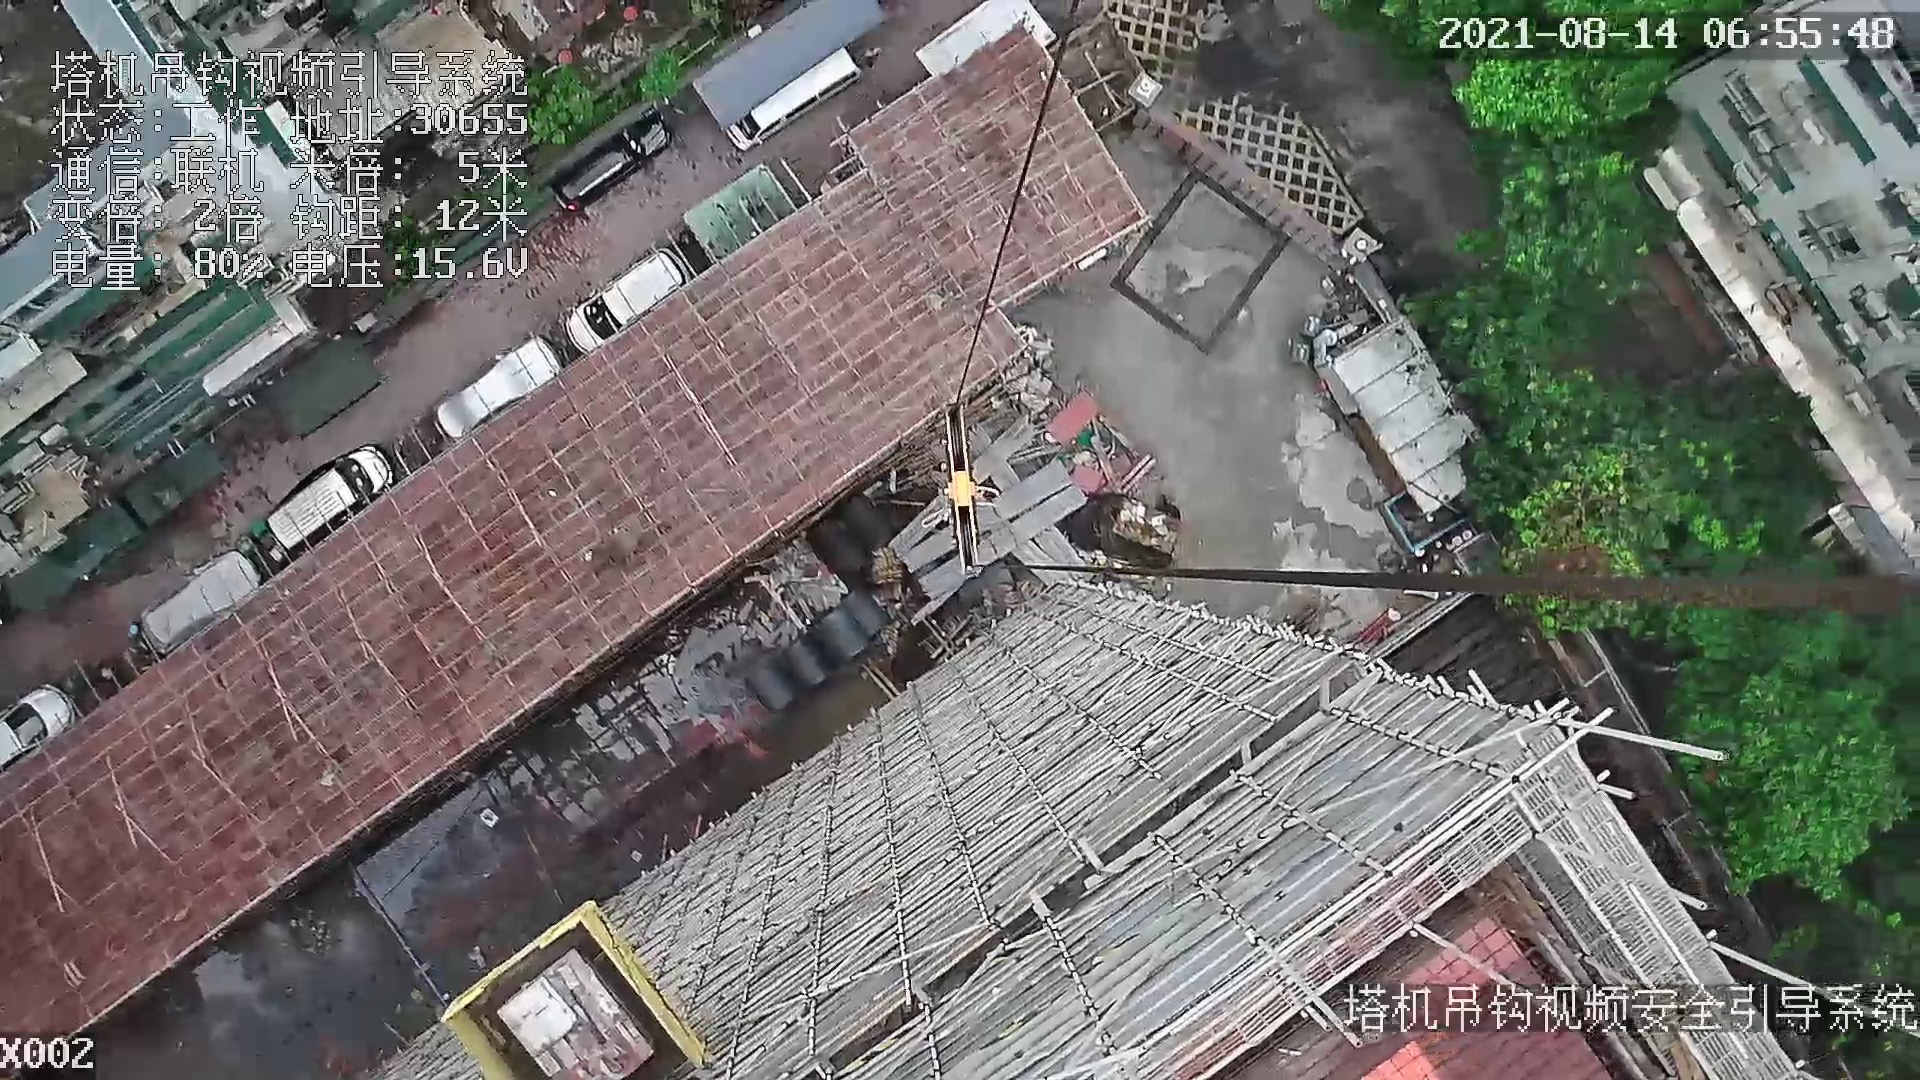board: (496, 945, 653, 1080)
hook: (928, 396, 1004, 571)
rebar: (889, 415, 1035, 555), (899, 458, 1073, 574), (918, 485, 1088, 599), (1034, 525, 1087, 578), (1011, 541, 1065, 584)
